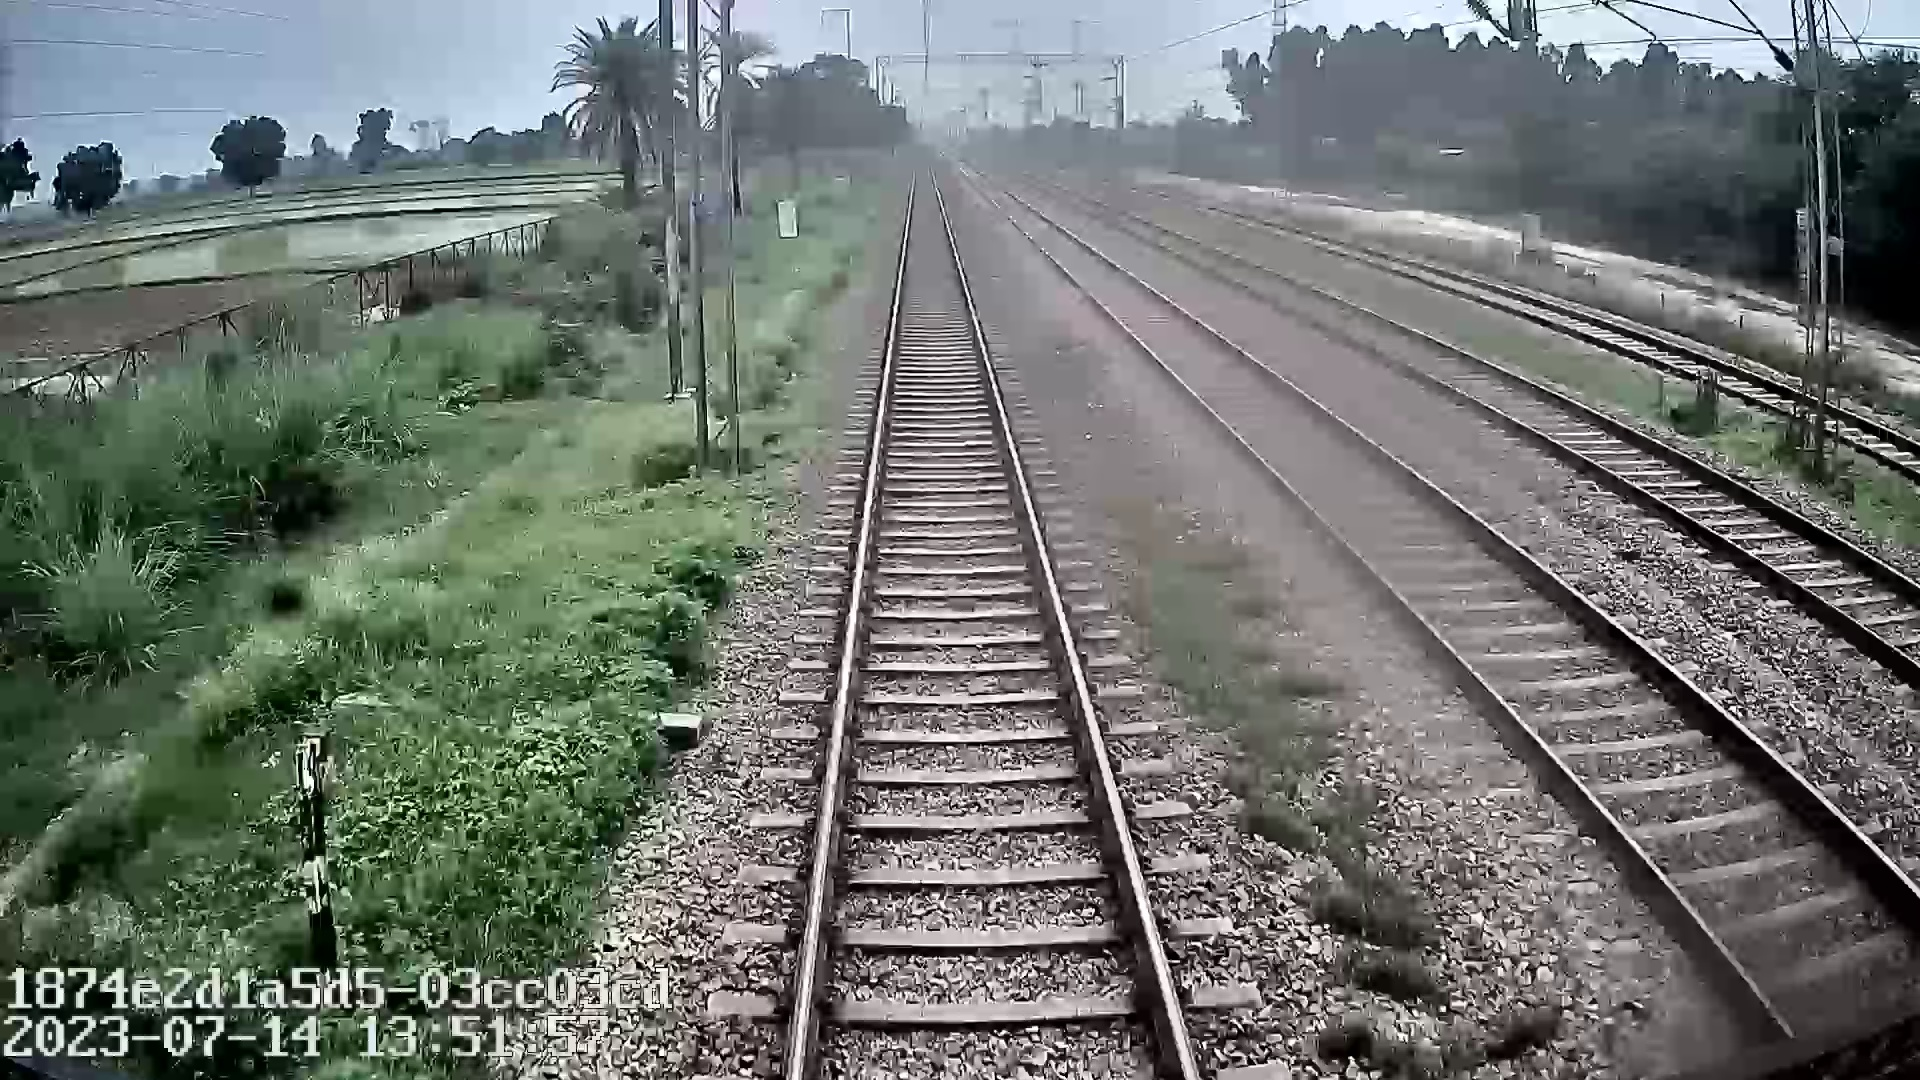track1: (799, 196, 1182, 1055)
track2: (1003, 210, 1908, 994)
track3: (1224, 266, 1916, 641)
track4: (1338, 249, 1917, 472)
